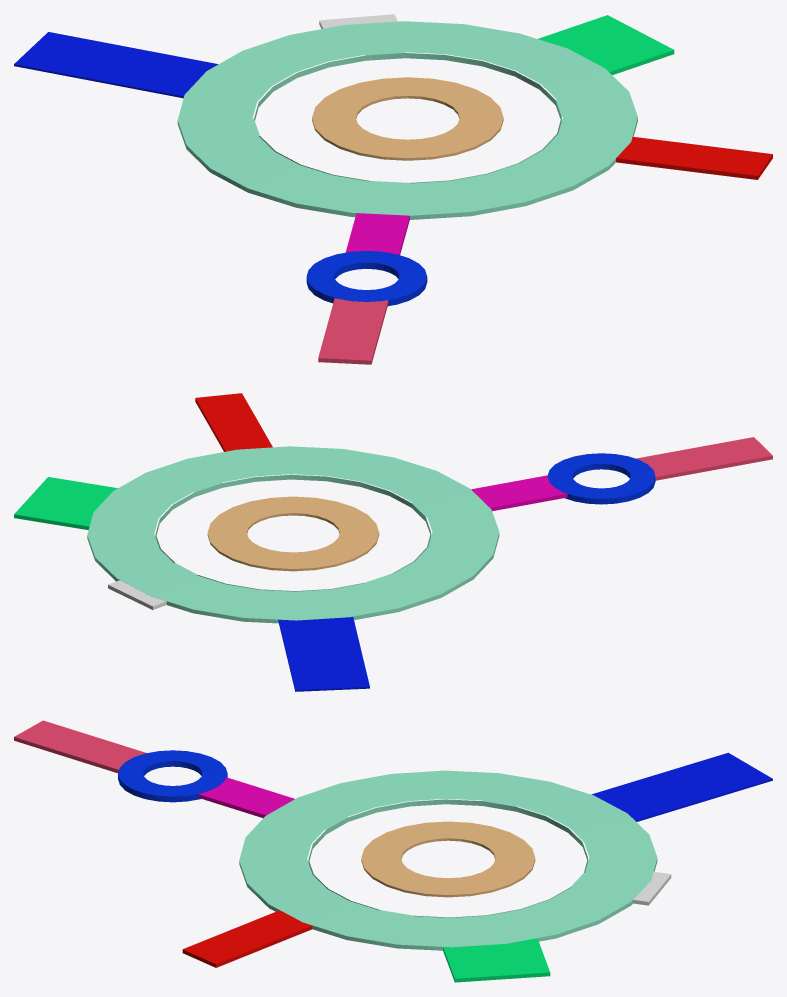
Rendered from pathsHUB.fbx.
3 renders of one model, top to bottom at view 1: azimuth 30°, elevation 25°; view 2: azimuth 150°, elevation 25°; view 3: azimuth 270°, elevation 25°, orthographic. The views are drawn at different scales.
Parts seen in each view (by area): view 1: square out, square in, walmart path, fountain path, mayor path, cinema path, admin path 2, path 1 admin, chemin decheterrie uv; view 2: square out, square in, walmart path, fountain path, mayor path, admin path 2, cinema path, path 1 admin, chemin decheterrie uv; view 3: square out, square in, walmart path, fountain path, mayor path, cinema path, admin path 2, path 1 admin, chemin decheterrie uv.
Boxes of the visible parts, box(x1,y1,x2,y2) form: square out: box(177, 21, 637, 219); square in: box(312, 77, 503, 160); walmart path: box(14, 32, 218, 98); fountain path: box(306, 251, 427, 306); mayor path: box(538, 15, 674, 75); cinema path: box(616, 136, 772, 179); admin path 2: box(318, 298, 388, 364); path 1 admin: box(345, 213, 409, 254); chemin decheterrie uv: box(319, 14, 397, 28); square out: box(87, 446, 499, 623); square in: box(207, 496, 379, 571); walmart path: box(278, 616, 369, 691); fountain path: box(547, 453, 655, 504); mayor path: box(14, 477, 117, 529); admin path 2: box(636, 437, 772, 480); cinema path: box(195, 393, 272, 451); path 1 admin: box(471, 475, 567, 511); chemin decheterrie uv: box(108, 580, 166, 609); square out: box(239, 770, 657, 950); square in: box(361, 821, 535, 897); walmart path: box(591, 752, 772, 821); fountain path: box(118, 750, 227, 802); mayor path: box(443, 938, 550, 982); cinema path: box(182, 910, 312, 967); admin path 2: box(14, 720, 146, 773); path 1 admin: box(198, 777, 294, 818); chemin decheterrie uv: box(633, 871, 671, 905).
Bounding box in the file's own units: 6417 × 73.75 × 7964.
